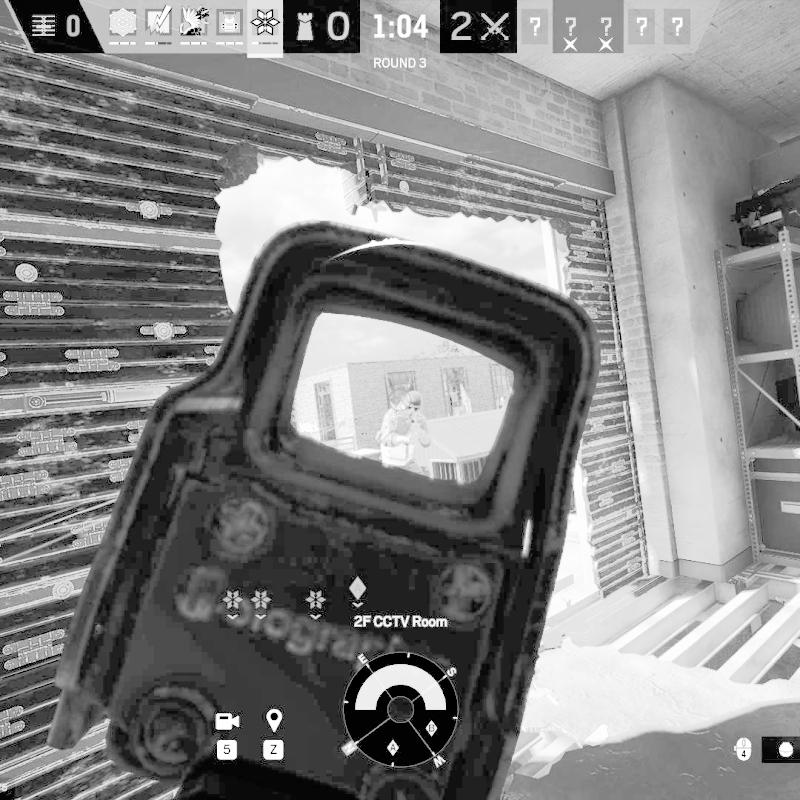Character: (374, 389, 433, 476)
Head: (402, 390, 424, 418)
